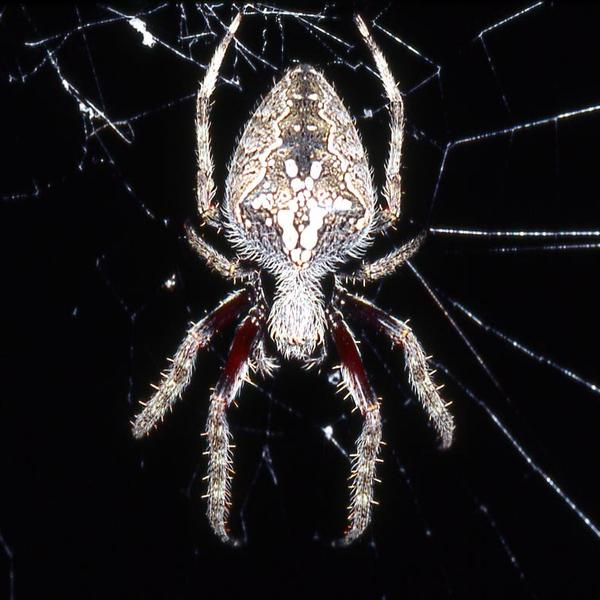Garden_Orb_Weaver_Spider: (130, 14, 454, 546)
